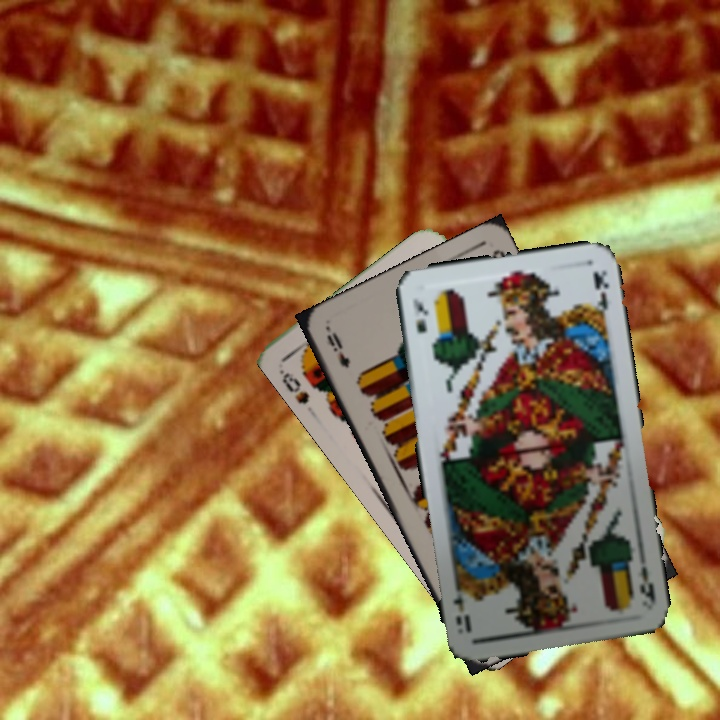E9: (322, 328, 353, 371)
EK: (635, 562, 658, 604), (408, 294, 430, 336)
S8: (274, 365, 312, 407)
